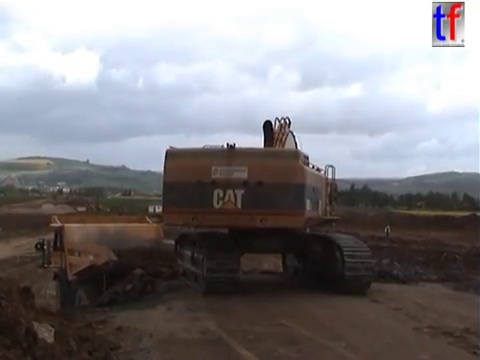excavator: (158, 114, 377, 298), (82, 200, 108, 218)
truck: (33, 211, 224, 313), (50, 193, 59, 203), (63, 192, 71, 202)
worker: (382, 220, 393, 241)
